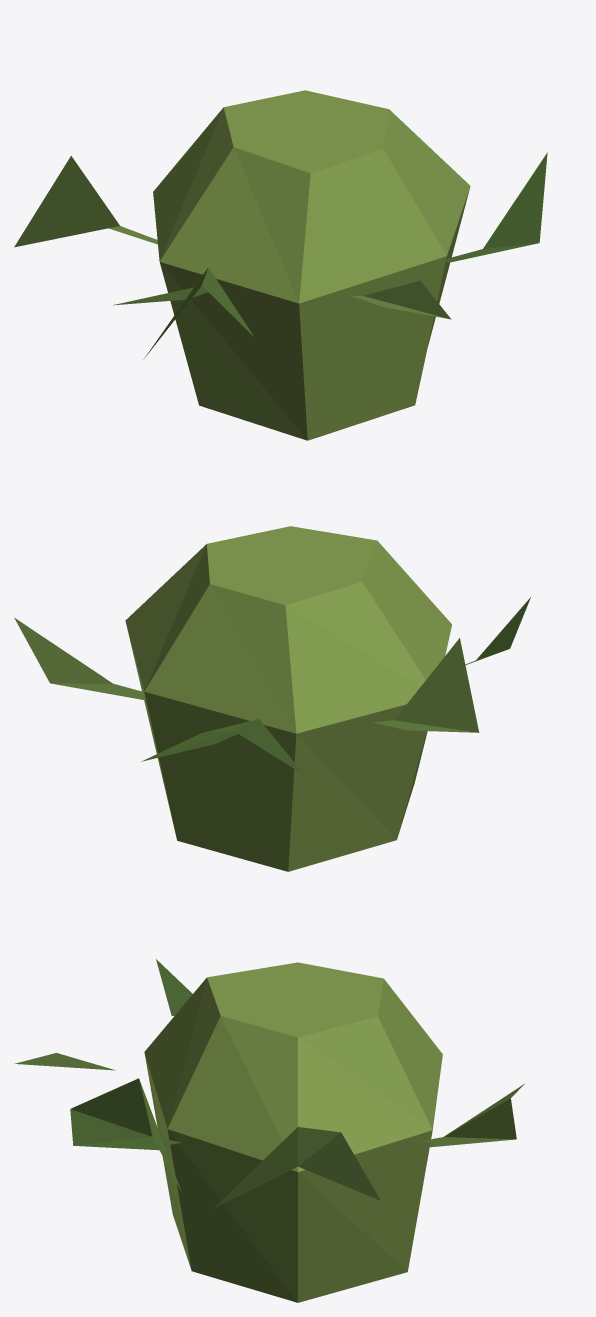
Rendered from lattuga.glb.
3 views of the same model, one above another, from view 1: azimuth 30°, elevation 25°; view 2: azimuth 150°, elevation 25°; view 3: azimuth 270°, elevation 25° (orthographic).
Size of the model in its own units: 0.8935 by 0.44 by 0.9164.
